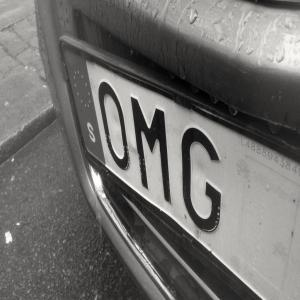Vehicle-registration-plate: (66, 53, 300, 300)
